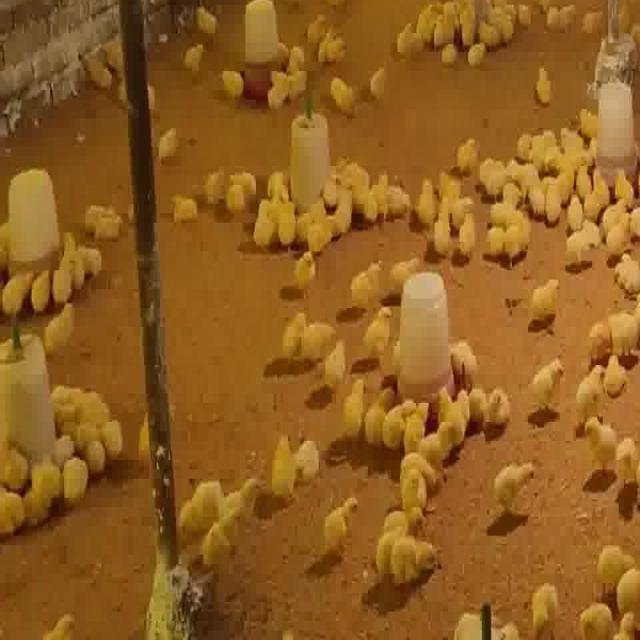poussin: (524, 360, 566, 422), (579, 420, 620, 480), (594, 543, 638, 597), (200, 512, 242, 568), (490, 460, 536, 510), (27, 465, 64, 527), (182, 479, 219, 538), (364, 386, 398, 450), (522, 582, 562, 636), (572, 363, 606, 423), (381, 400, 418, 451), (392, 542, 442, 579), (271, 311, 304, 367), (338, 380, 368, 440), (60, 458, 93, 512), (526, 278, 562, 327), (43, 304, 81, 349), (82, 202, 126, 240), (438, 389, 467, 446), (222, 479, 263, 519), (326, 496, 358, 547), (375, 528, 413, 570), (0, 488, 31, 539), (362, 307, 390, 359), (270, 438, 295, 496), (298, 322, 336, 359), (351, 260, 384, 302), (404, 403, 432, 452), (566, 226, 600, 266), (250, 200, 276, 252), (322, 343, 348, 393), (577, 602, 611, 640), (609, 310, 638, 354), (486, 187, 522, 222), (41, 609, 81, 640), (618, 438, 640, 494), (2, 274, 30, 318), (425, 422, 455, 463), (386, 254, 418, 292), (177, 43, 209, 81), (82, 53, 114, 91), (585, 318, 612, 362), (601, 356, 628, 399), (398, 455, 434, 487), (543, 2, 579, 34), (400, 472, 428, 512), (78, 390, 109, 426), (293, 252, 317, 298), (338, 164, 370, 198), (381, 508, 426, 532), (394, 26, 424, 62), (428, 203, 449, 254), (504, 221, 530, 262), (230, 167, 262, 200), (28, 272, 52, 315), (294, 440, 318, 482), (85, 440, 109, 482), (486, 386, 509, 429), (319, 30, 346, 66), (414, 178, 436, 222), (452, 139, 482, 171), (371, 172, 391, 220), (529, 127, 554, 165), (104, 420, 124, 467), (201, 168, 223, 210), (525, 168, 545, 214), (620, 250, 640, 294), (275, 206, 297, 246), (264, 70, 286, 110), (329, 200, 356, 232), (454, 218, 475, 258), (300, 220, 328, 250), (50, 266, 70, 308), (328, 78, 354, 110), (601, 228, 630, 256), (600, 203, 629, 231), (504, 159, 534, 186), (496, 6, 516, 46), (554, 164, 576, 200), (288, 67, 310, 103), (482, 158, 508, 188), (158, 125, 178, 163), (390, 181, 410, 218), (530, 68, 553, 100), (366, 66, 389, 98), (614, 167, 636, 200), (168, 196, 201, 218), (544, 182, 562, 222), (435, 8, 453, 48), (69, 424, 101, 446), (79, 244, 100, 277), (218, 70, 242, 98), (64, 256, 85, 288), (468, 387, 486, 424), (196, 7, 216, 40), (418, 5, 434, 46), (450, 193, 474, 220), (477, 14, 497, 46), (516, 3, 536, 35), (460, 5, 474, 50), (583, 8, 604, 38), (575, 163, 594, 196), (559, 126, 582, 153), (593, 168, 610, 204), (546, 146, 571, 170), (568, 195, 584, 230), (484, 228, 504, 256), (440, 172, 460, 200), (226, 186, 246, 214), (288, 44, 306, 72), (467, 42, 488, 66), (440, 42, 458, 66), (584, 192, 600, 218)
